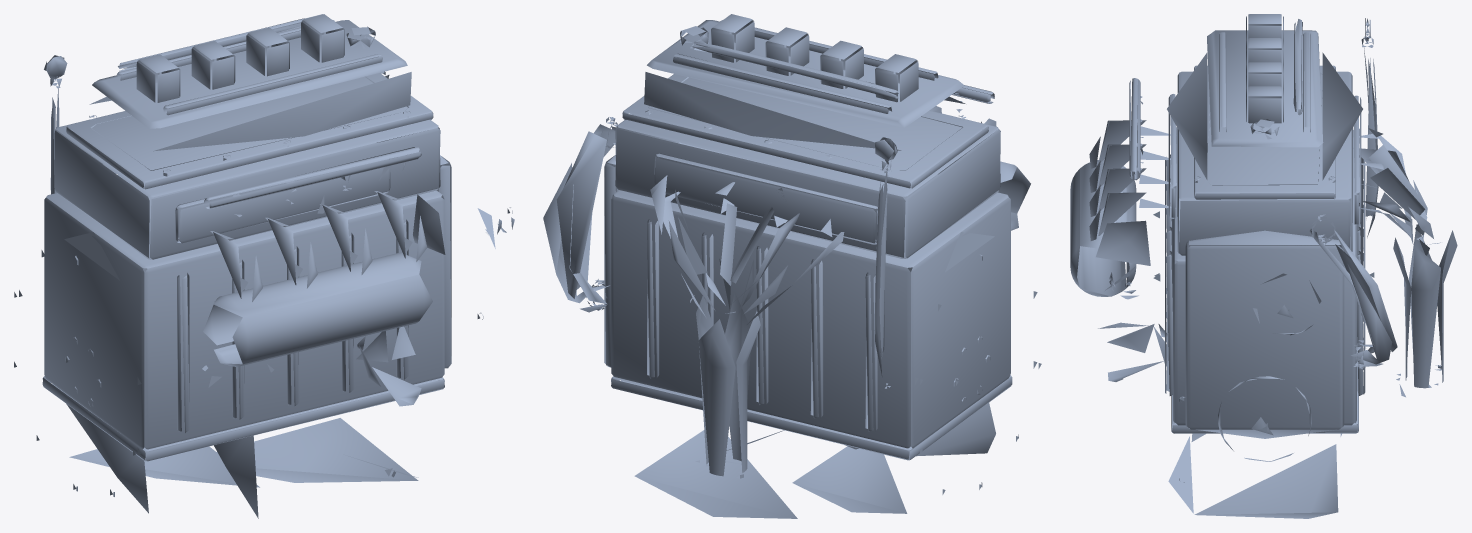
File: car-engine-low.obj
3 views of the same model, side by side, from view 1: azimuth 30°, elevation 25°; view 2: azimuth 150°, elevation 25°; view 3: azimuth 270°, elevation 25° (orthographic). The views are drawn at different scales.
Visible parts, largest first — view 1: motor; view 2: motor; view 3: motor.
Boxes of the visible parts, left/top/right/bottom form: motor: left=14, top=14, right=514, bottom=518; motor: left=543, top=14, right=1041, bottom=518; motor: left=1070, top=14, right=1457, bottom=518.
Bounding box in the file's own units: 0.7185 × 0.8687 × 0.7085.
